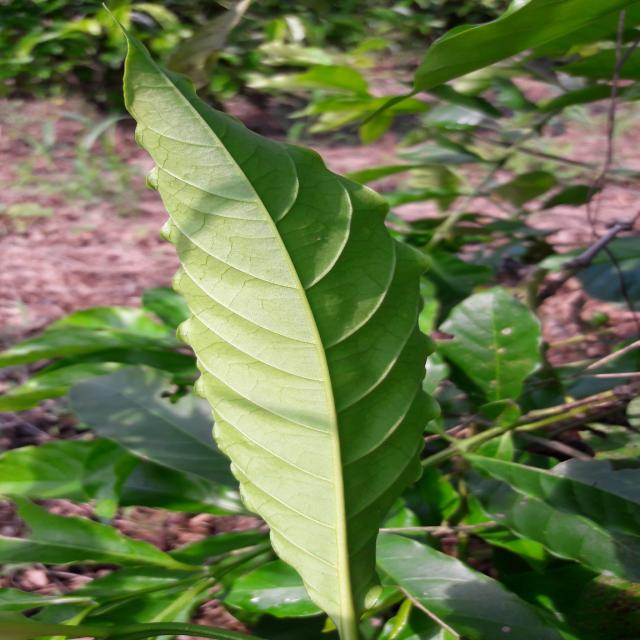Sanas: (122, 39, 446, 640)
